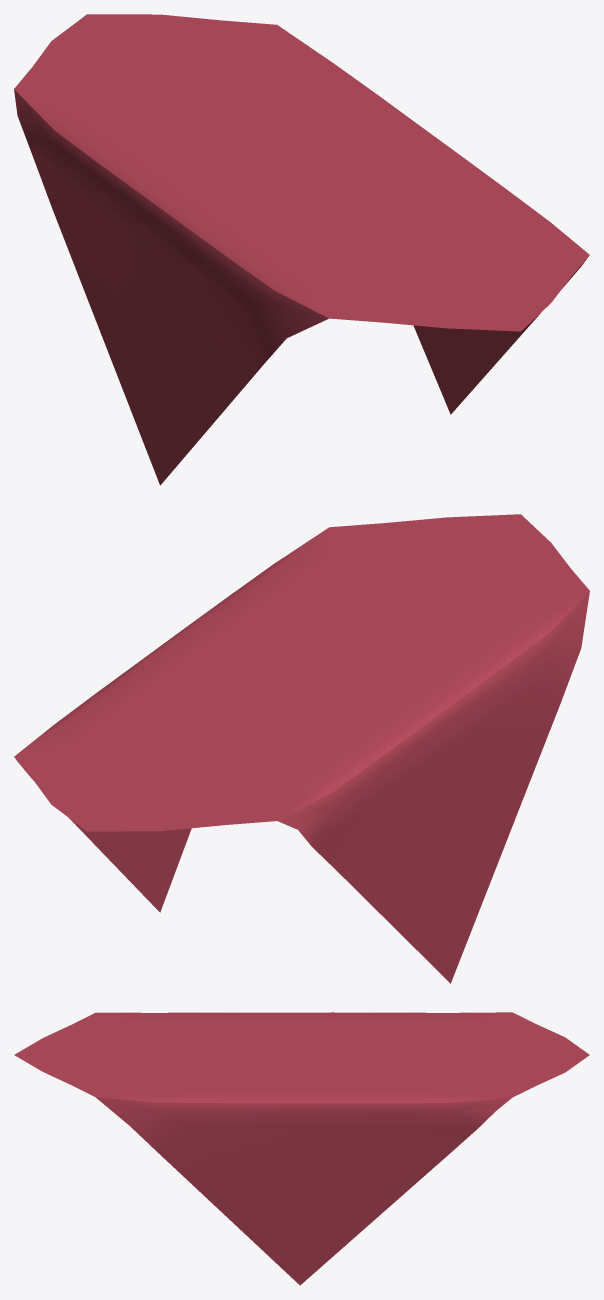
File: carpet_05.fbx
3 renders of one model, top to bottom at view 1: azimuth 30°, elevation 25°; view 2: azimuth 150°, elevation 25°; view 3: azimuth 270°, elevation 25°, orthographic. The views are drawn at different scales.
Visible parts, largest first — view 1: pPlane12; view 2: pPlane12; view 3: pPlane12.
Boxes of the visible parts, x1,y1,x2,y2 form: pPlane12: (14,14,589,485); pPlane12: (14,514,589,983); pPlane12: (14,1012,589,1285).
Bounding box in the file's own units: 0.552 × 0.4936 × 1.4.
